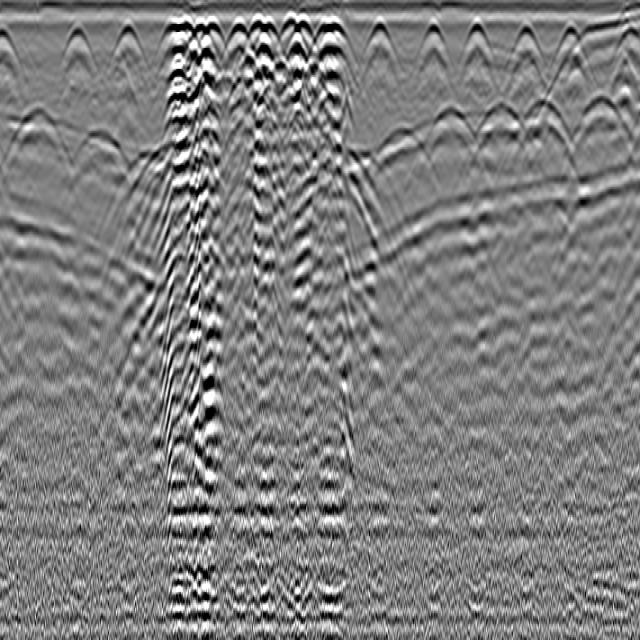hyperbola: (7, 103, 69, 193), (573, 91, 629, 188), (474, 99, 530, 172), (369, 128, 433, 189), (518, 97, 568, 162), (76, 123, 132, 179), (547, 20, 586, 98), (426, 101, 477, 160), (111, 20, 147, 100), (614, 18, 640, 116), (59, 26, 98, 84), (462, 17, 494, 86), (510, 19, 545, 77), (363, 17, 396, 77), (419, 16, 450, 79), (501, 22, 554, 58), (1, 27, 24, 106), (164, 13, 193, 61), (200, 12, 226, 64), (314, 13, 346, 55), (279, 10, 303, 60), (226, 12, 250, 61), (247, 10, 274, 48), (289, 18, 313, 52), (467, 14, 488, 46)
